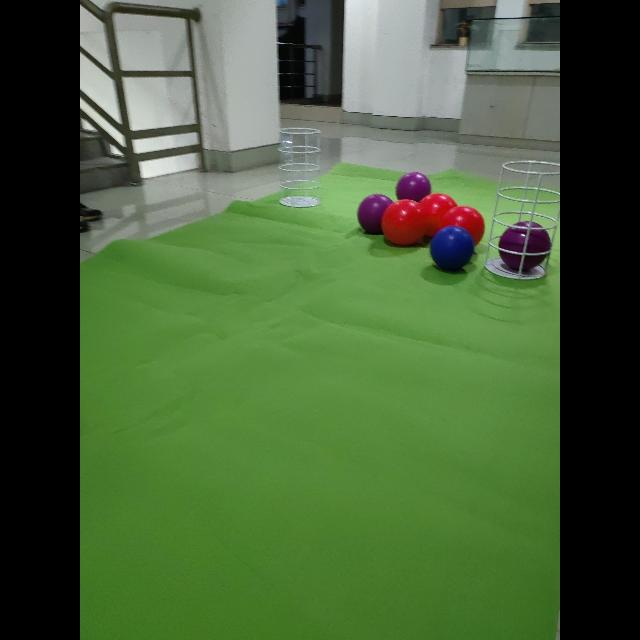B: (430, 226, 474, 271)
P: (358, 194, 392, 235), (396, 171, 431, 201)
R: (381, 199, 425, 245), (441, 206, 485, 245), (419, 192, 456, 238)
S: (485, 162, 560, 281), (279, 128, 320, 208), (502, 222, 550, 271)
